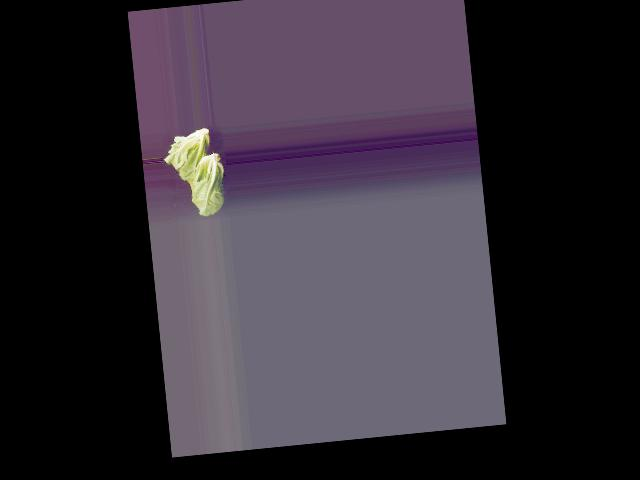lettuce: (162, 127, 221, 193)
